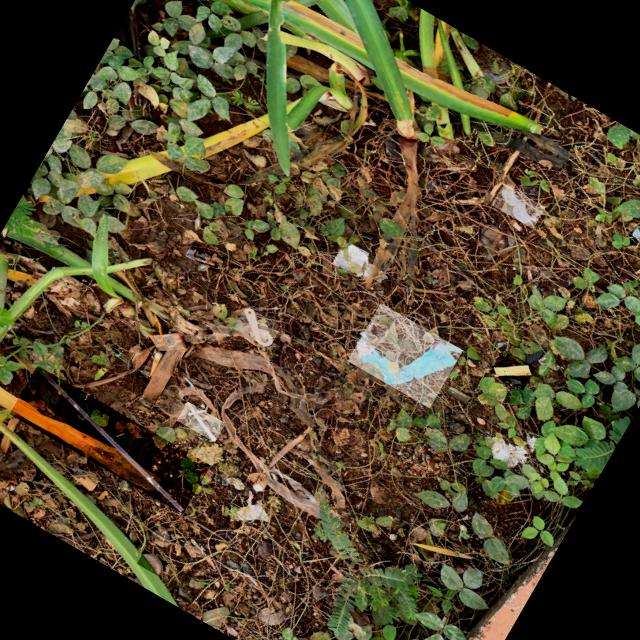Bottle cap: (143, 554, 162, 577)
Cigarette: (493, 364, 531, 377), (74, 472, 96, 491), (148, 350, 162, 377)
Other plastic: (332, 245, 372, 278)
Other plastic bottle: (499, 188, 538, 223), (244, 308, 272, 347)
Paper bag: (358, 335, 461, 383)
Straw: (35, 368, 184, 512)
Unlabeled litter: (140, 335, 186, 398), (488, 433, 527, 467), (186, 403, 216, 441), (187, 250, 222, 270), (633, 228, 640, 241)
